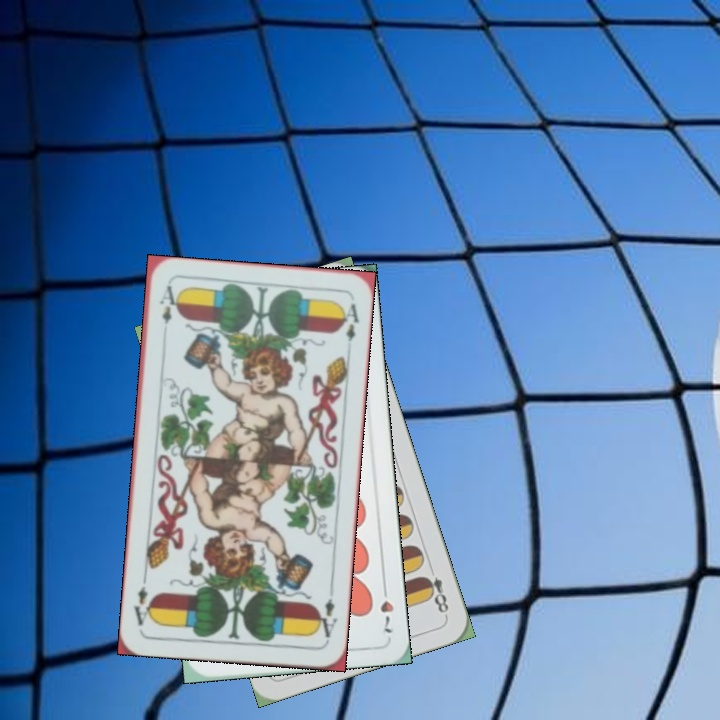E8: (419, 561, 451, 619)
EA: (312, 594, 340, 640), (155, 281, 179, 326)
H7: (376, 579, 396, 637)
